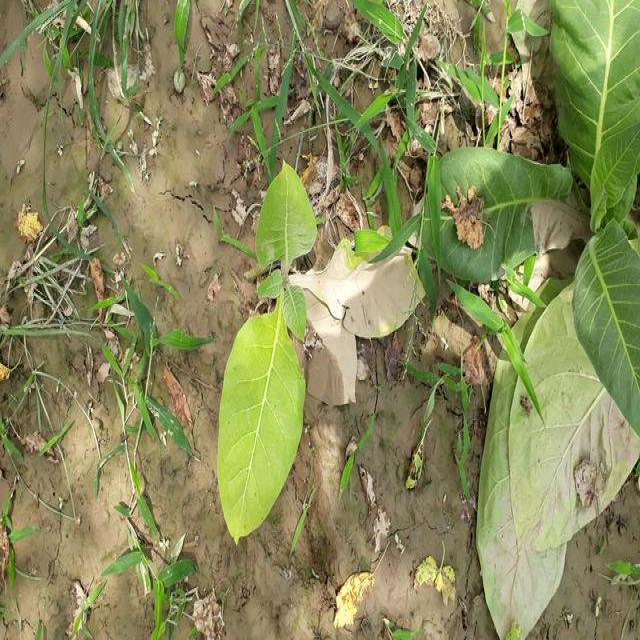crop: (436, 0, 636, 620), (210, 153, 422, 548)
